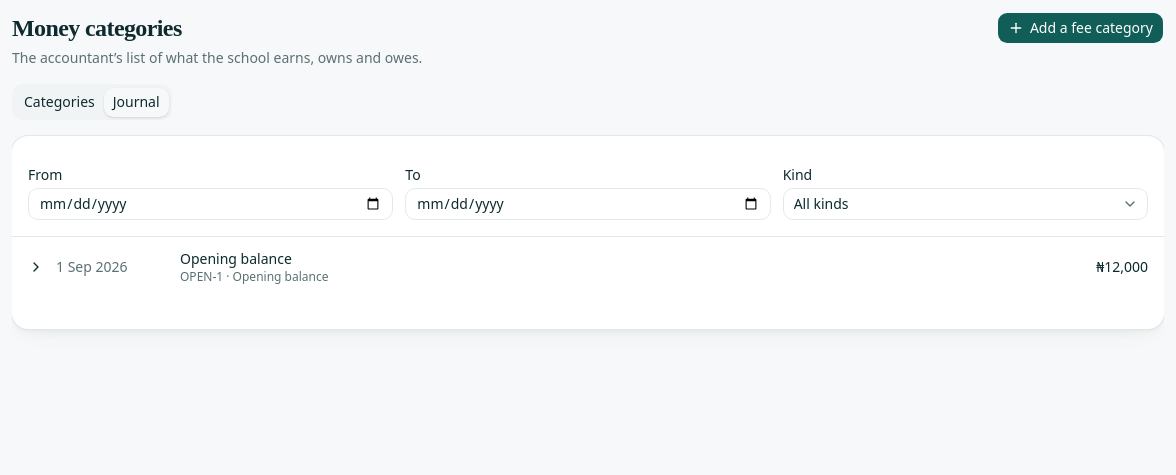
Test: MoneyCategoriesPage tabs and journal › lists journal entries and expands one to its lines, with School-wide for a null campus
The image size is (1176, 475).
Check: the text "₦12,000" is shown, box [1096,257,1148,277]
Click the button "1 Sep 2026 Opening balance OPEN-1 · Opening balance ₦12,000".
click(92, 266)  # box [12,237,1164,297]
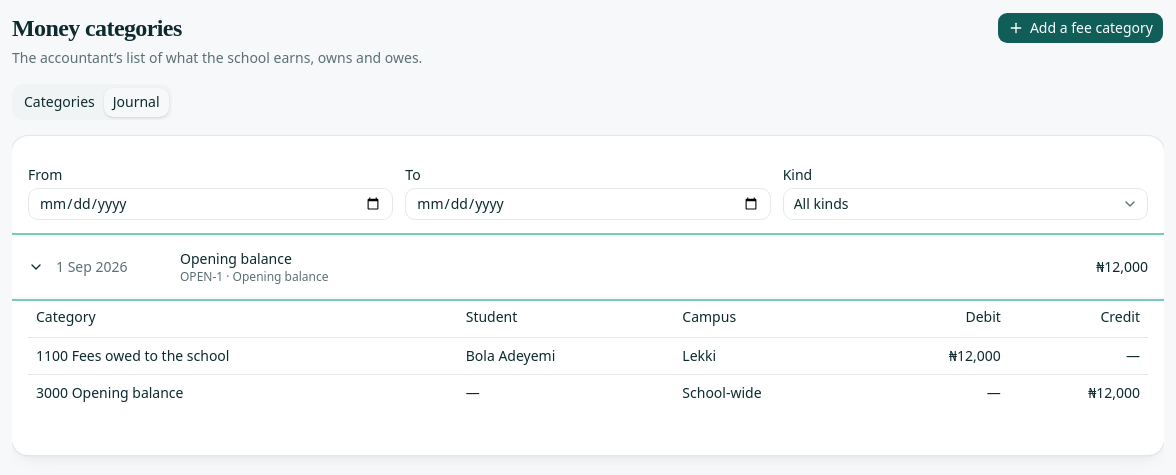
Check: the text "1100 Fees owed to the school" is shown, box [28,337,458,374]
Check: the text "Bola Adeyemi" is shown, box [458,337,674,374]
Check: the text "School-wide" is shown, box [674,374,870,410]
